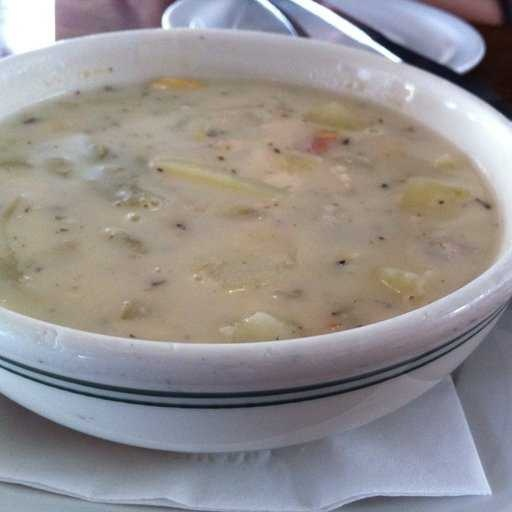soup: (1, 48, 469, 376)
